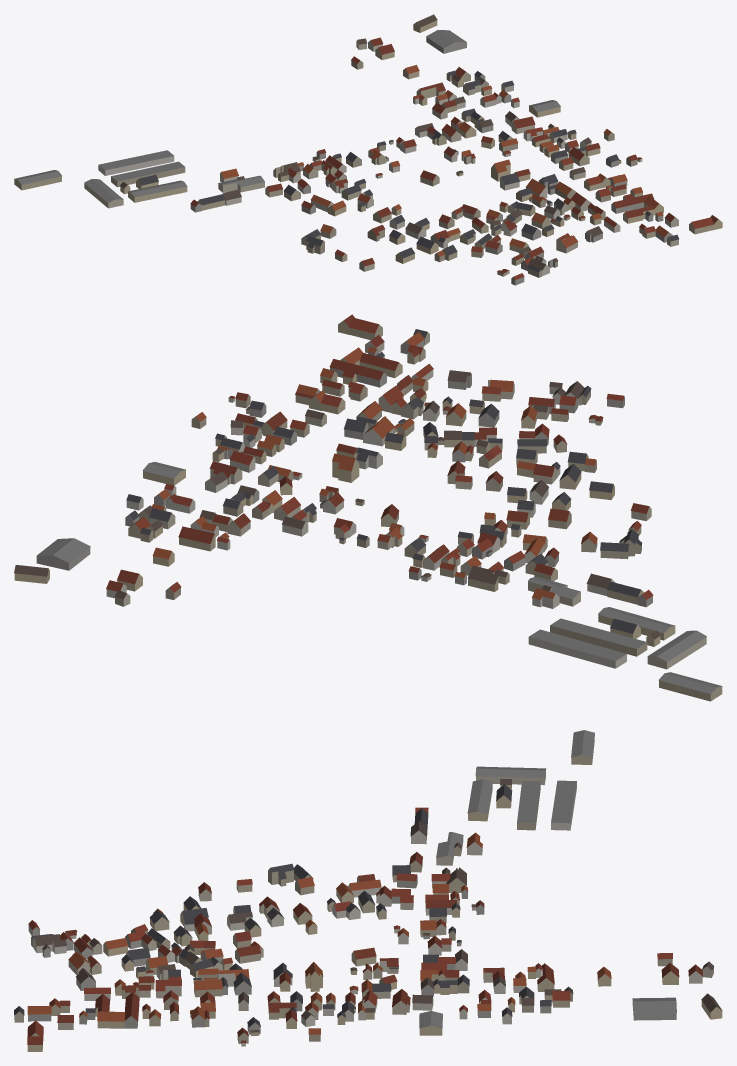
The picture shows the model from 3 angles, top to bottom: view 1: azimuth 30°, elevation 25°; view 2: azimuth 150°, elevation 25°; view 3: azimuth 270°, elevation 25°; orthographic projection. The views are drawn at different scales.
Visible parts, largest first — view 1: buildings; view 2: buildings; view 3: buildings.
Part boxes in pixels (x1,y1,x2,y2): buildings: (14, 14, 722, 285); buildings: (14, 314, 722, 701); buildings: (14, 730, 722, 1051).
Bounding box in the file's own units: 543 × 47.52 × 523.
